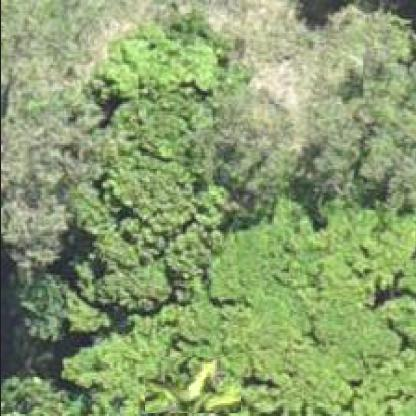coconut tree: (143, 357, 240, 414)
